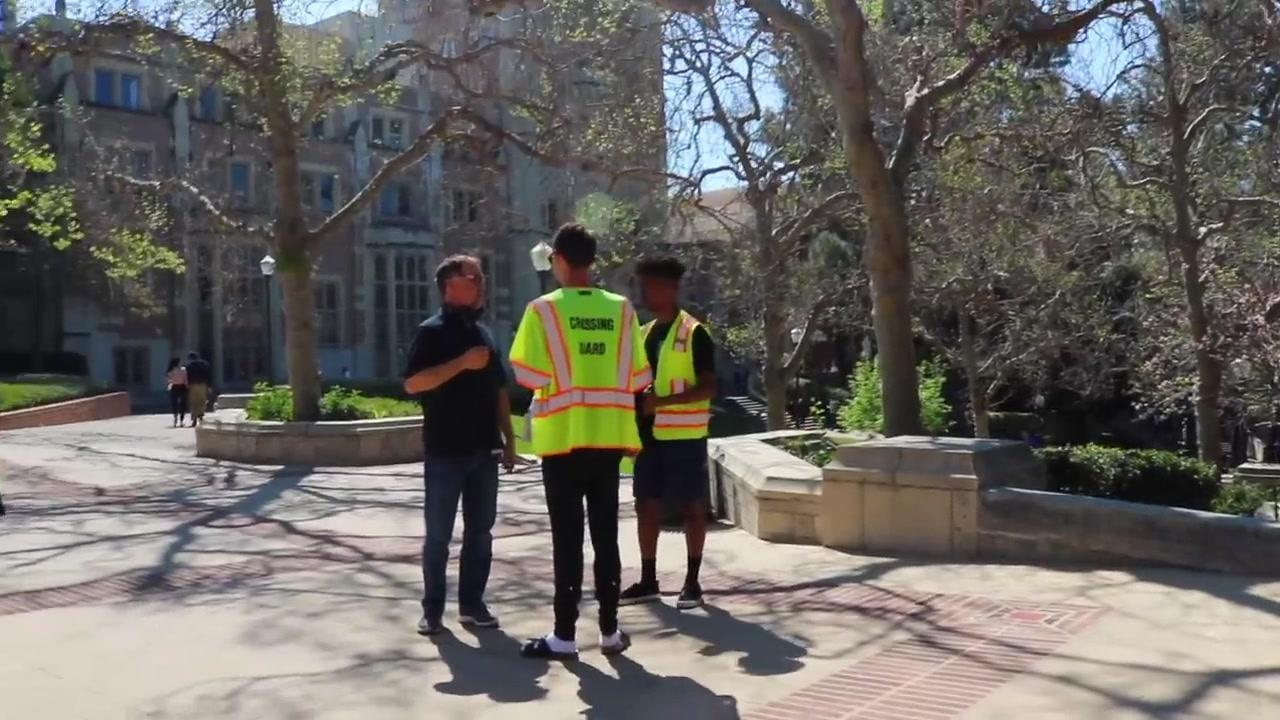vest: (506, 284, 652, 455), (638, 312, 711, 440)
